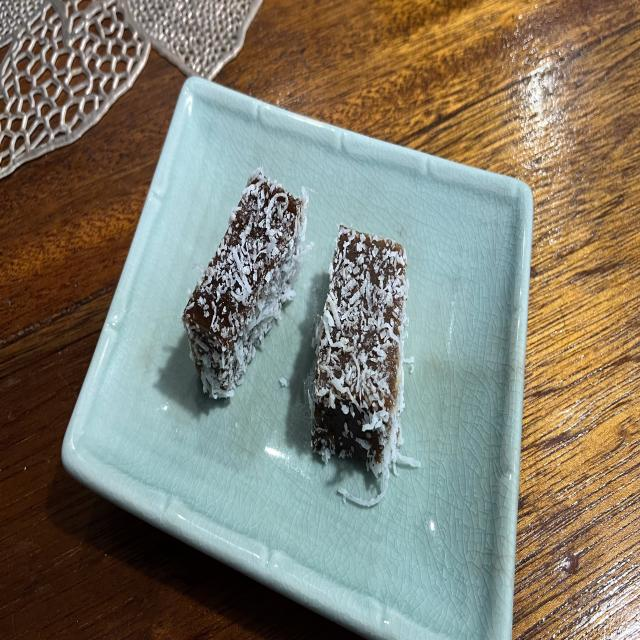kaswi: (311, 224, 419, 507), (182, 169, 309, 398)
